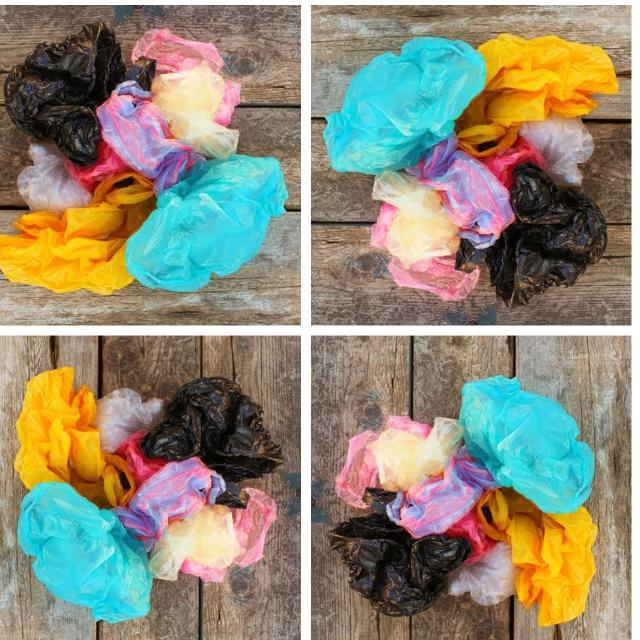plastik: (324, 38, 486, 175), (125, 155, 288, 291), (455, 34, 619, 158), (0, 173, 155, 295), (18, 483, 153, 623), (459, 376, 594, 514), (328, 489, 471, 618), (484, 163, 607, 307), (5, 23, 125, 167), (15, 367, 136, 509), (476, 488, 598, 627), (141, 378, 282, 483), (96, 81, 205, 194), (407, 135, 514, 248), (113, 458, 226, 551), (386, 447, 497, 538), (151, 64, 240, 159), (373, 171, 459, 268), (149, 505, 244, 581), (368, 416, 463, 492), (16, 143, 92, 214), (518, 116, 594, 186), (95, 389, 163, 454), (387, 255, 480, 302), (132, 28, 223, 76), (449, 542, 517, 606), (335, 430, 381, 509)
